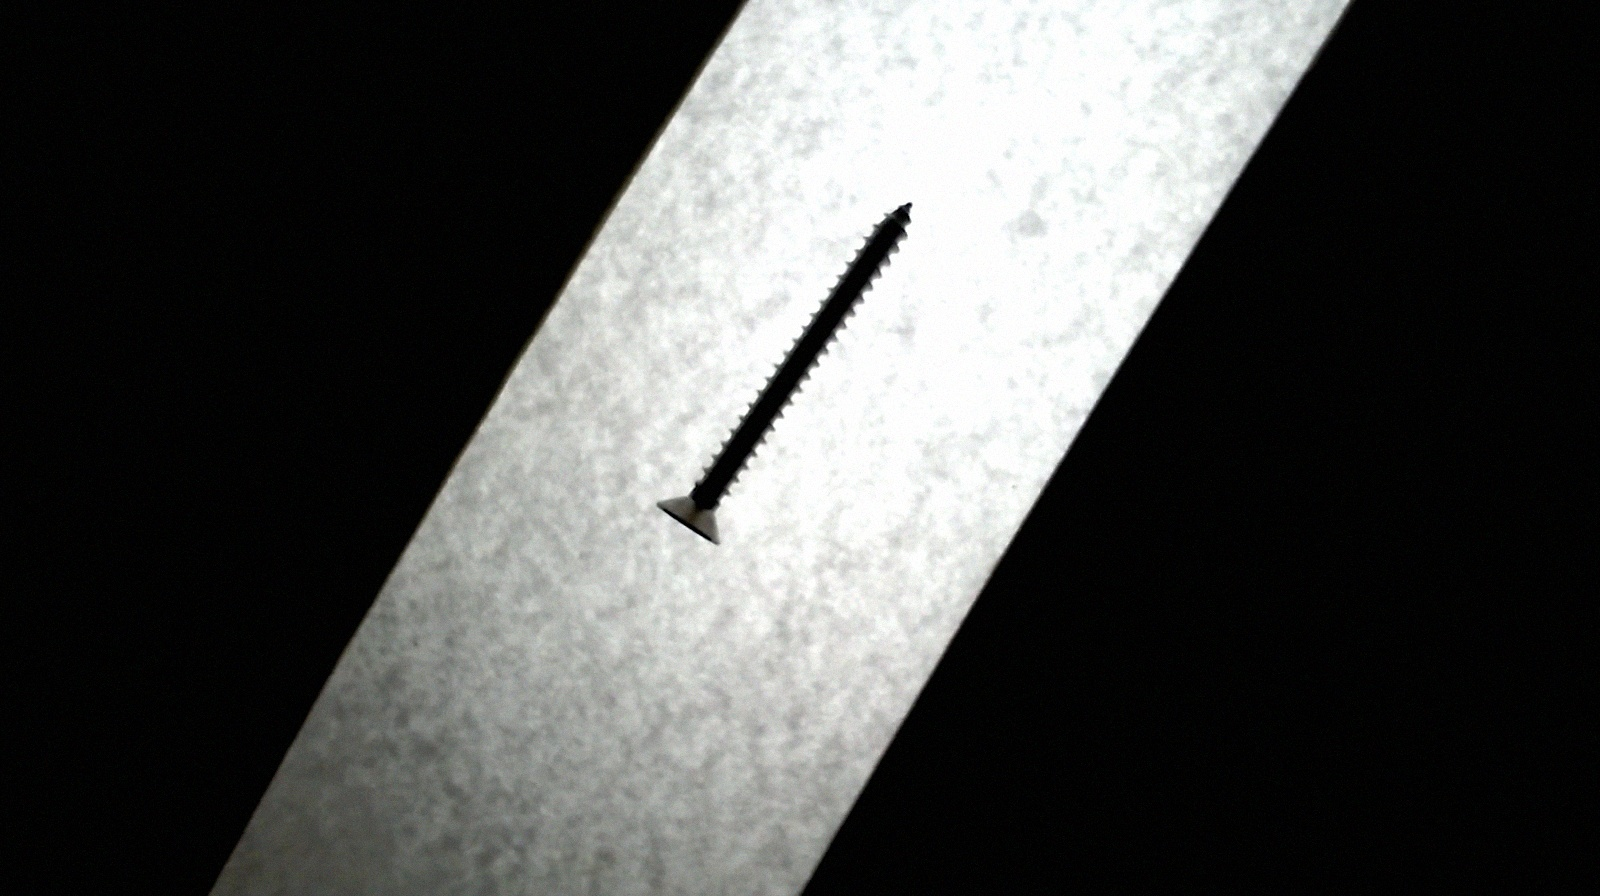S002: (646, 193, 918, 549)
